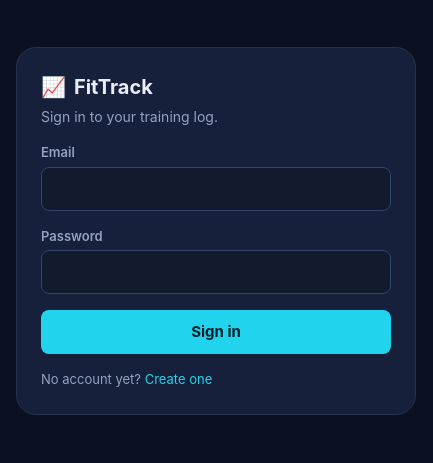
Test: LoginPage › shows the server error when sign-in fails
Type "athlete@example.test" into the field labelled "Email" at (216, 189), box [41, 167, 391, 211]
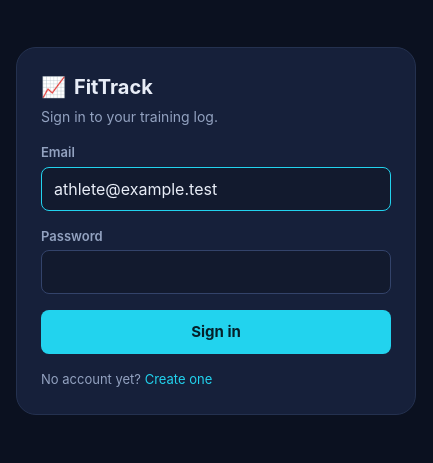
Type "wrong" into the password field labelled "Password" at (216, 272), box [41, 250, 391, 294]
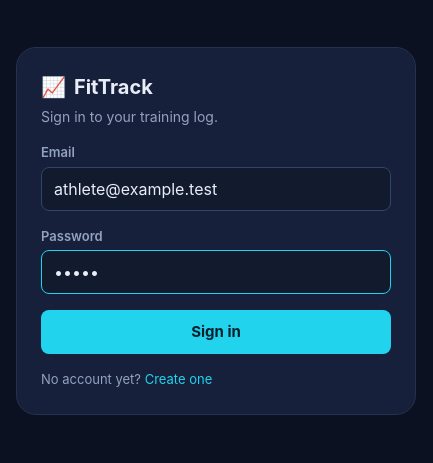
Click the button "Sign in" at (216, 332), box [41, 310, 391, 354]
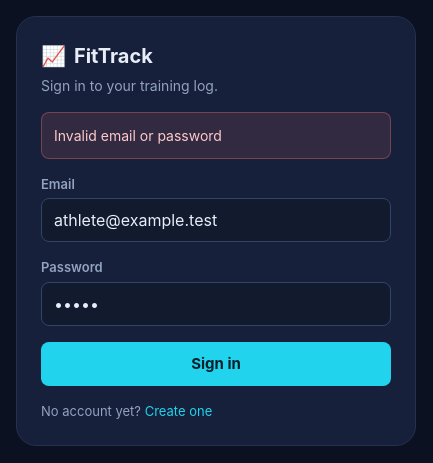
Expected: the message reads "Invalid email or password", [54, 127, 222, 144]
